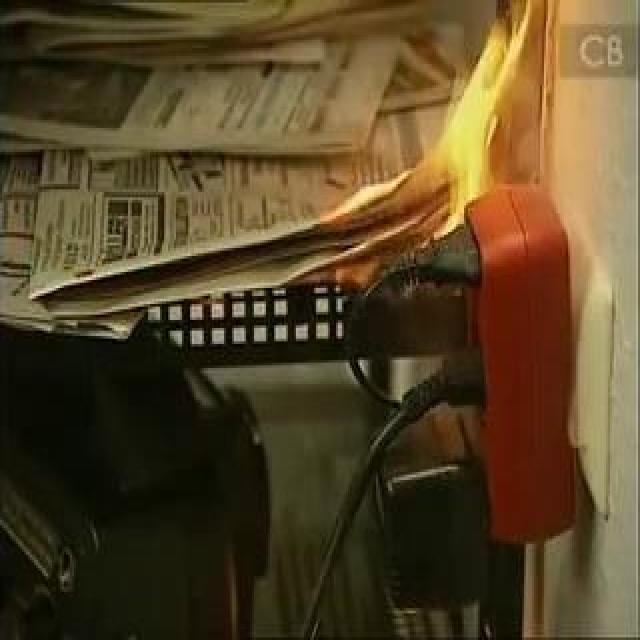Fire: (280, 3, 526, 317)
